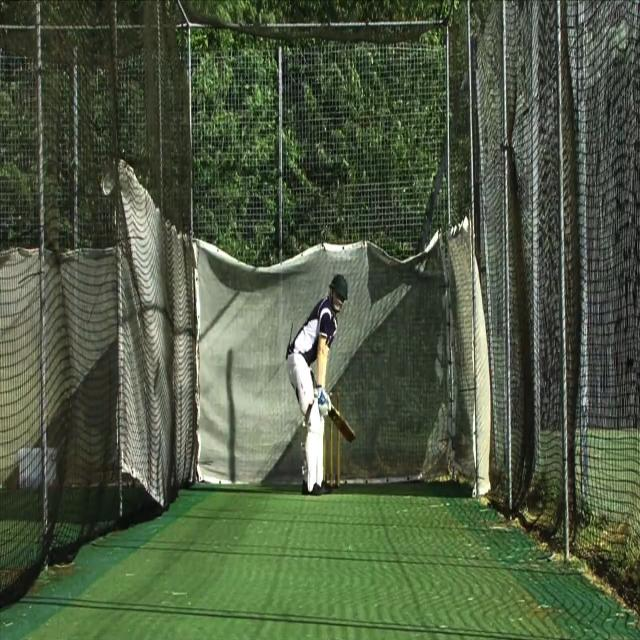batsman: (284, 271, 357, 498)
